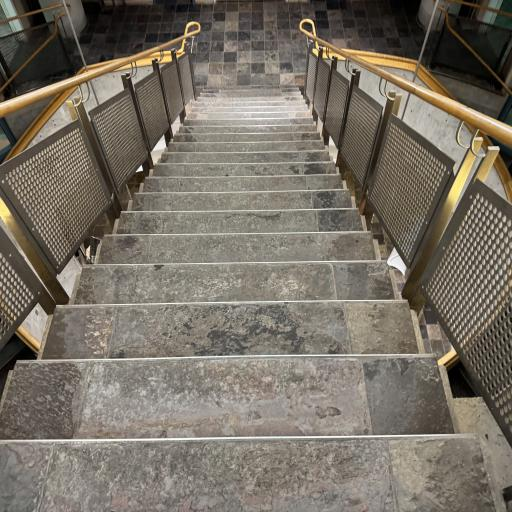Stairs: (0, 86, 494, 511)
